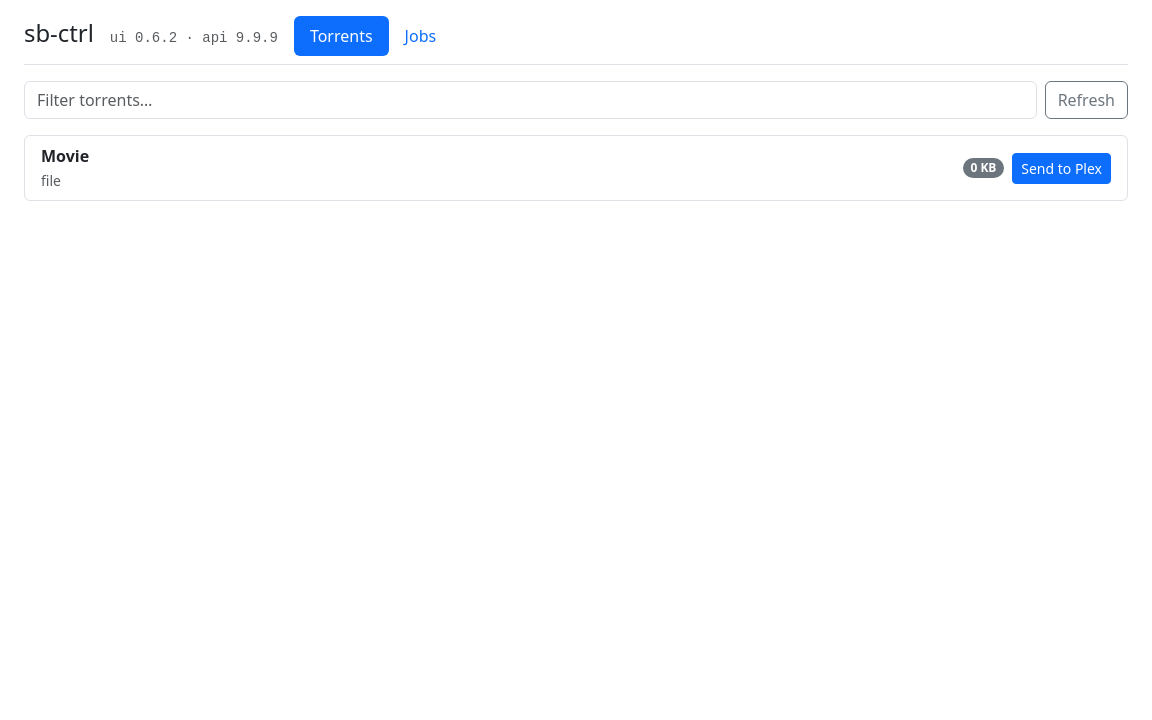
opens and closes the wizard
Expected: the text "Movie" is shown, [41,145,89,167]
Click the button with aria-label "Send to Plex: Movie" at x=1062, y=168, box [1012,152,1111,184]
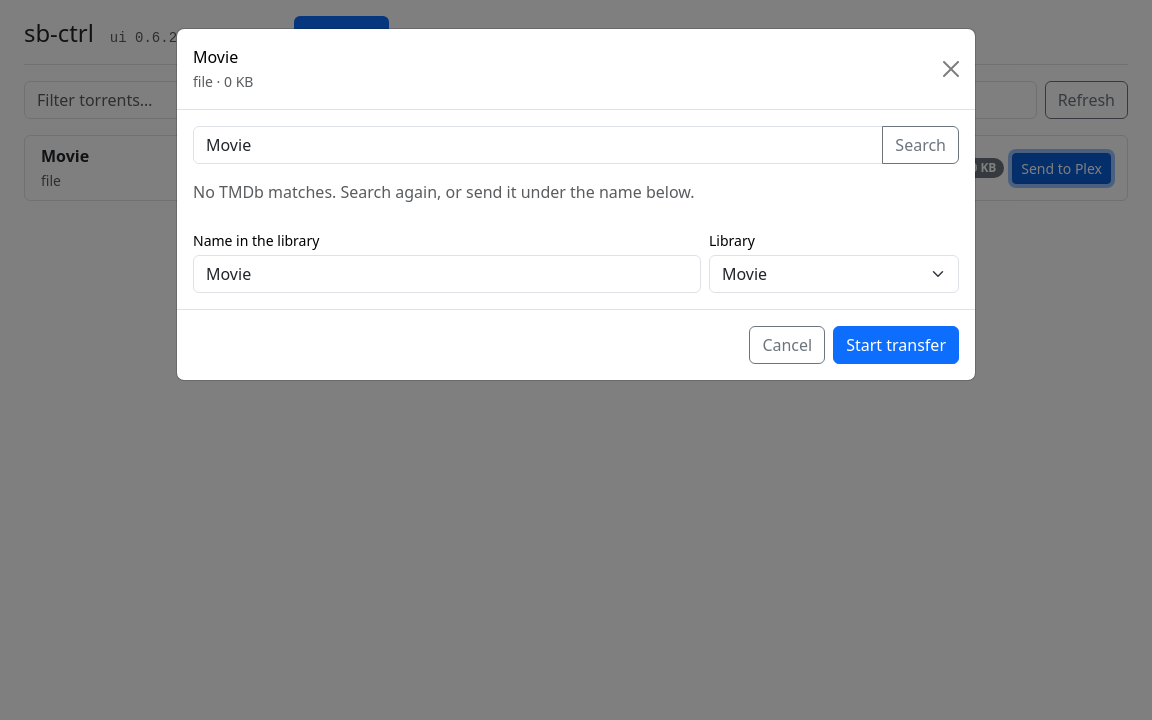
Now the dialog is shown
Click the button named "Close" at x=951, y=69, box [935,53,967,85]
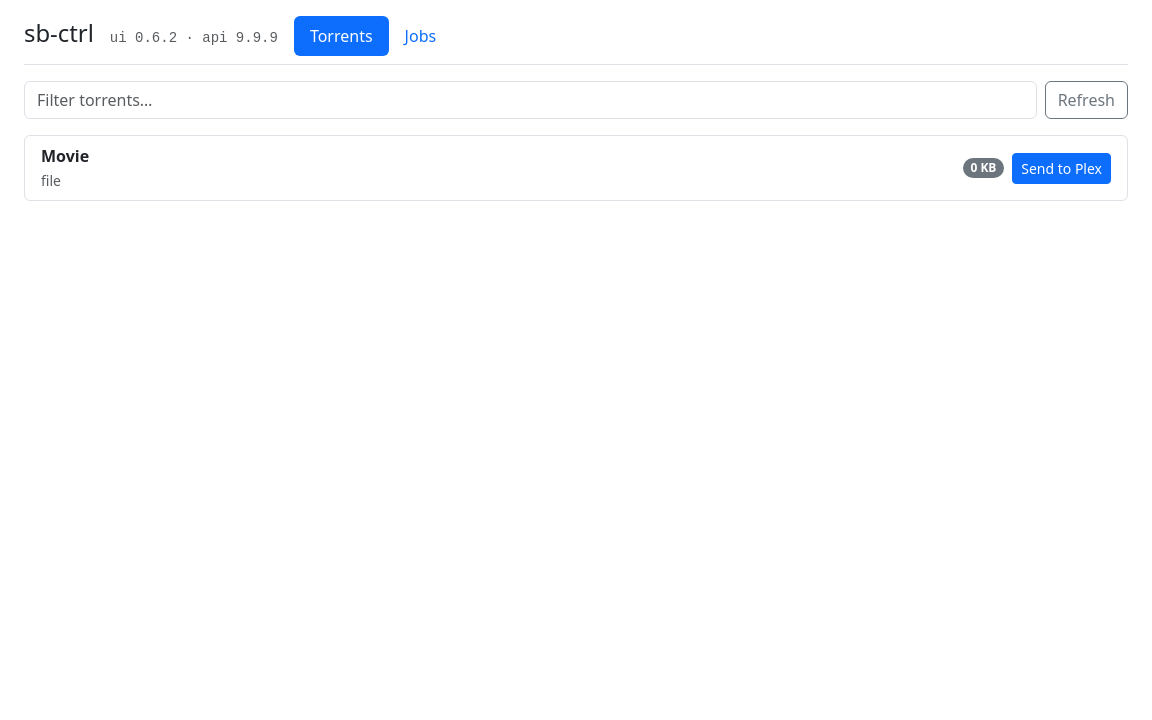
Now the dialog is gone
